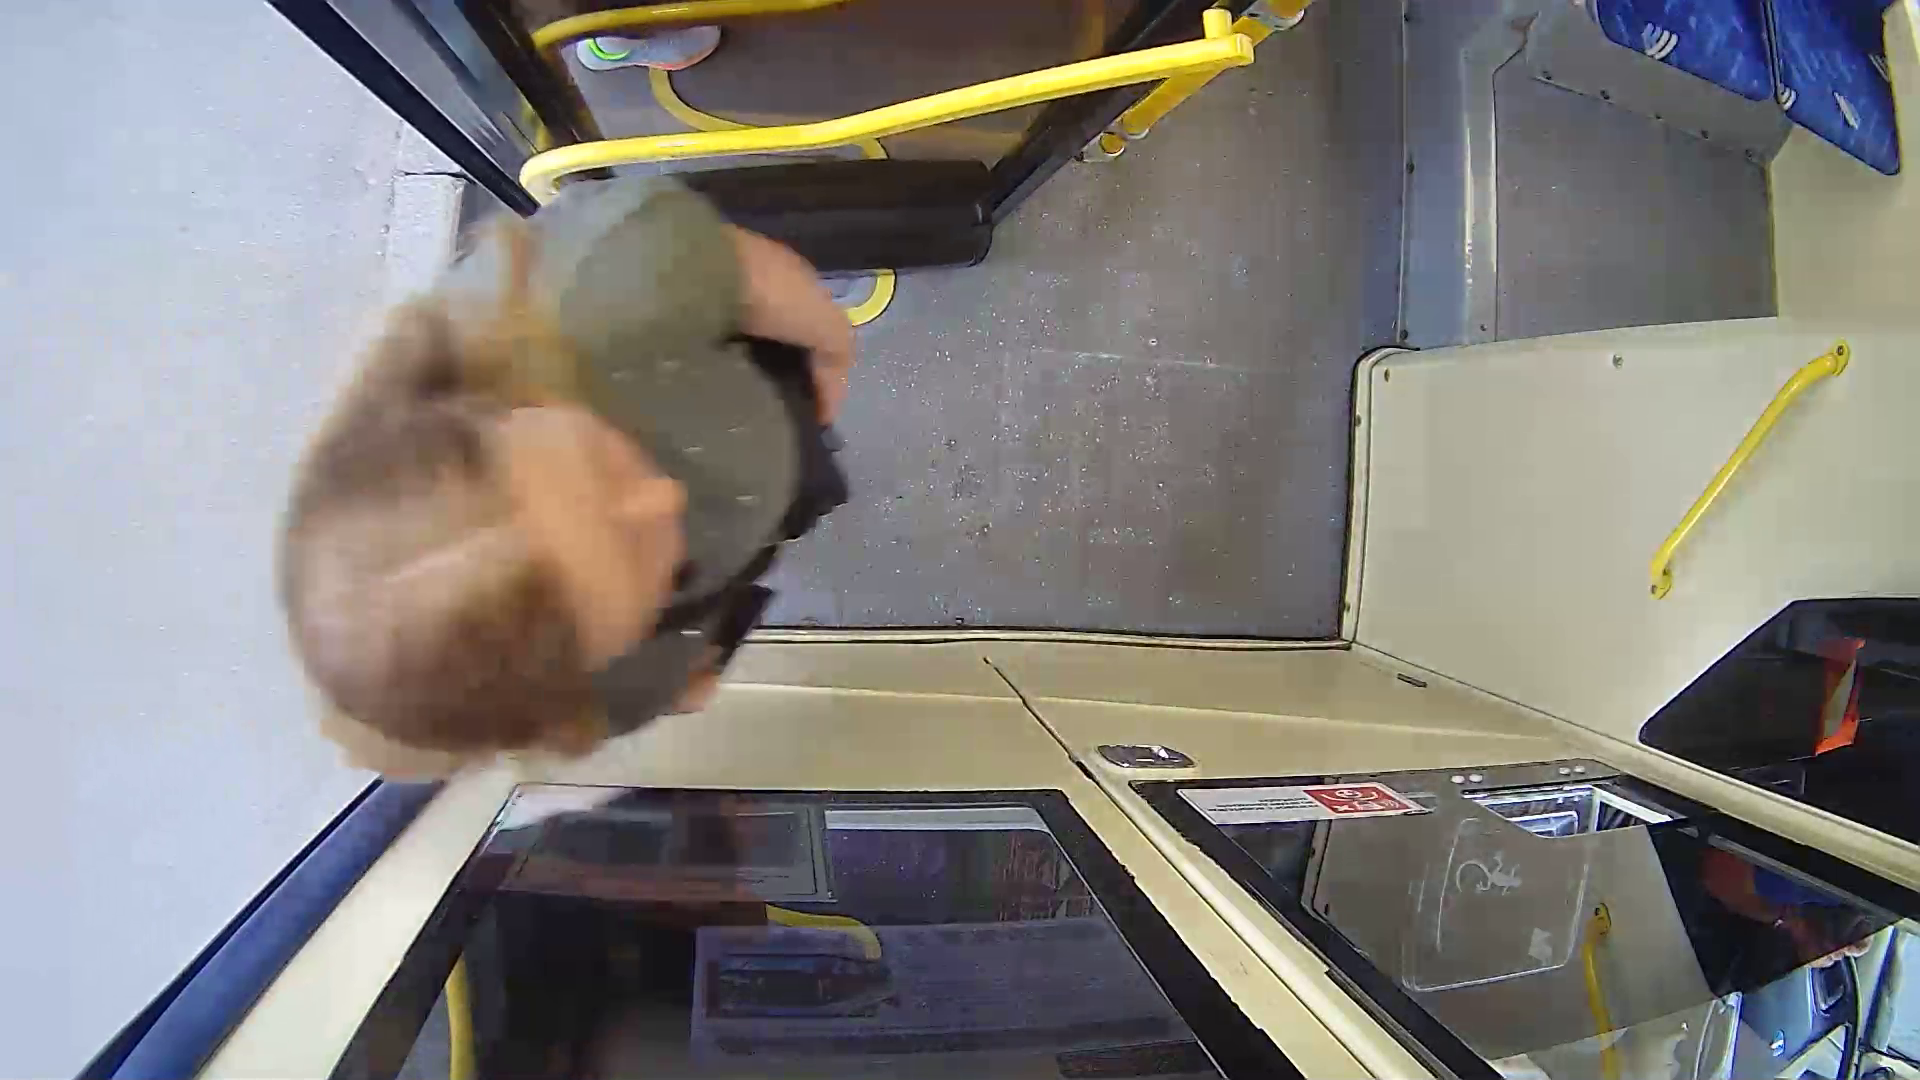person: (255, 178, 963, 754)
